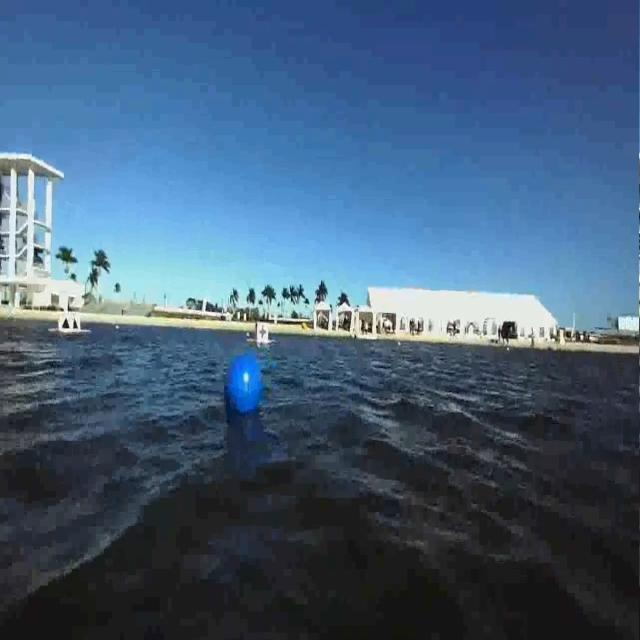blue-buoy: (224, 350, 265, 428)
